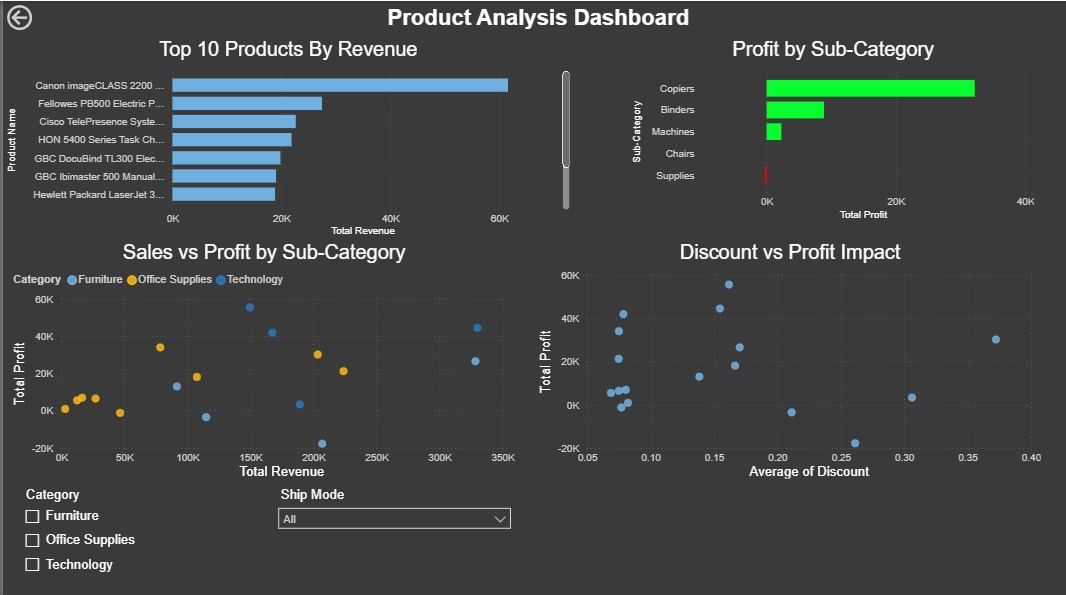

The dashboard page shown, as its layout file describes it:
{"tool":"powerbi","page":{"name":"Product Analysis","canvas":[1280,720],"ordinal":1},"visuals":[{"type":"textbox","box":[10,0,1270,44.3],"z":0},{"type":"barChart","title":"Top 10 Products By Revenue","fields":{"Y":["Sample - Superstore.Total Revenue"],"Category":["Sample - Superstore.Product Name"]},"box":[0,44.3,687.1,244.3],"z":1000},{"type":"barChart","title":"Profit by Sub-Category","fields":{"Category":["Sample - Superstore.Sub-Category"],"Y":["Sample - Superstore.Total Profit"]},"box":[752.9,44.3,494.3,224.3],"z":2000},{"type":"scatterChart","title":"Sales vs Profit by Sub-Category","fields":{"X":["Sample - Superstore.Total Revenue"],"Y":["Sample - Superstore.Total Profit"],"Category":["Sample - Superstore.Sub-Category"],"Series":["Sample - Superstore.Category"]},"box":[7.1,288.6,614.3,291.4],"z":3000},{"type":"scatterChart","title":"Discount vs Profit Impact","fields":{"X":["Avg(Sample - Superstore.Discount)"],"Y":["Sample - Superstore.Total Profit"],"Category":["Sample - Superstore.Sub-Category"]},"box":[640,288.6,614.3,291.4],"z":4000},{"type":"slicer","fields":{"Values":["Sample - Superstore.Category"]},"box":[14.3,580,300,122.9],"z":5000},{"type":"slicer","fields":{"Values":["Sample - Superstore.Ship Mode"]},"box":[321.4,580,300,84.3],"z":6000},{"type":"actionButton","box":[0,0,100,40],"z":7000}]}

Visuals, with their boxes in screenshot pixels (x1, y1, x2, y2), scaled from the page's 1280x720 canvas onto the 1066x595 screenshot:
textbox: [left=8, top=0, right=1065, bottom=37]
"Top 10 Products By Revenue" barChart: [left=0, top=37, right=572, bottom=238]
"Profit by Sub-Category" barChart: [left=627, top=37, right=1039, bottom=222]
"Sales vs Profit by Sub-Category" scatterChart: [left=6, top=238, right=518, bottom=479]
"Discount vs Profit Impact" scatterChart: [left=533, top=238, right=1045, bottom=479]
slicer - Sample - Superstore.Category: [left=12, top=479, right=262, bottom=581]
slicer - Sample - Superstore.Ship Mode: [left=268, top=479, right=518, bottom=549]
actionButton: [left=0, top=0, right=83, bottom=33]
